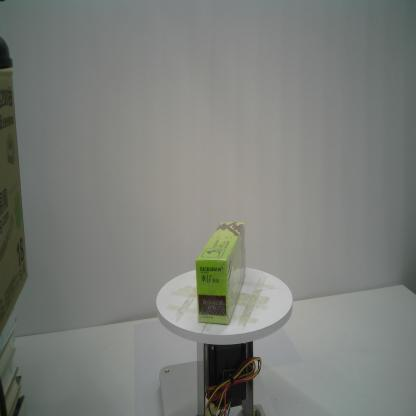Instant Drink: (193, 219, 247, 328)
